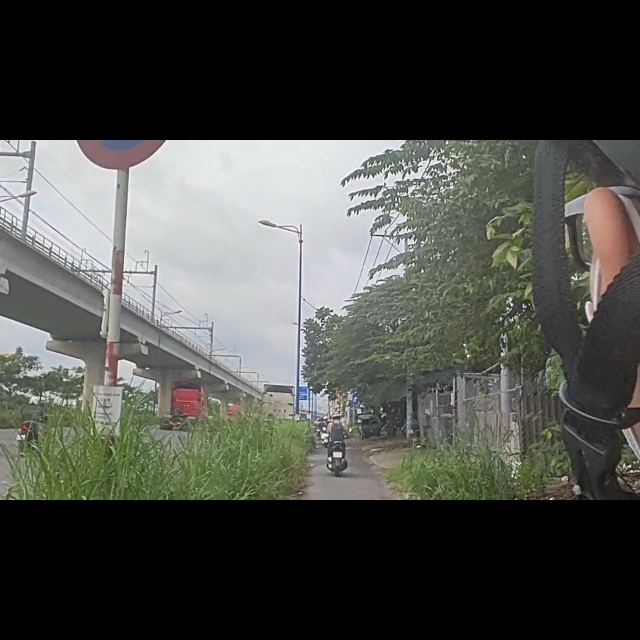bien_cam: (352, 452, 363, 472)
